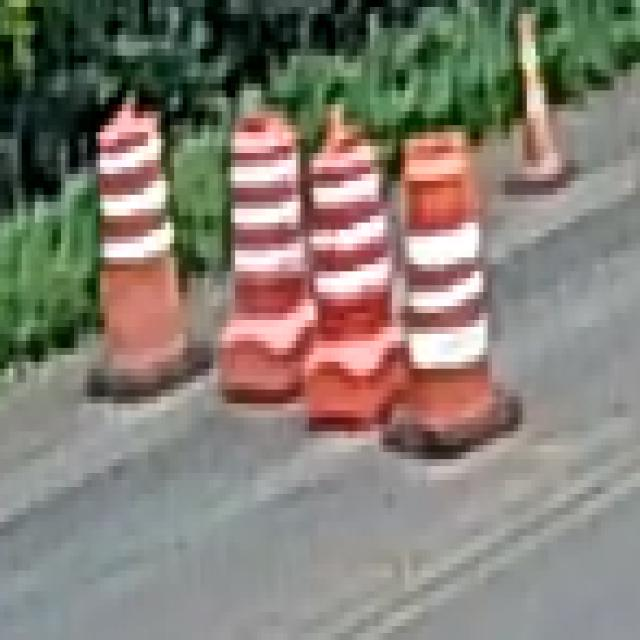big_cone: (395, 130, 492, 427), (96, 90, 183, 383), (229, 115, 309, 385), (315, 139, 376, 419)
